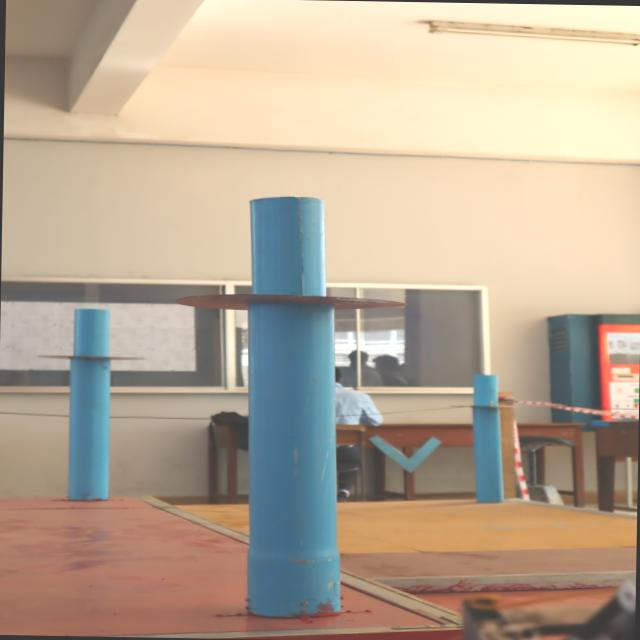pole: (176, 194, 426, 392), (25, 297, 154, 393), (452, 373, 522, 432)
